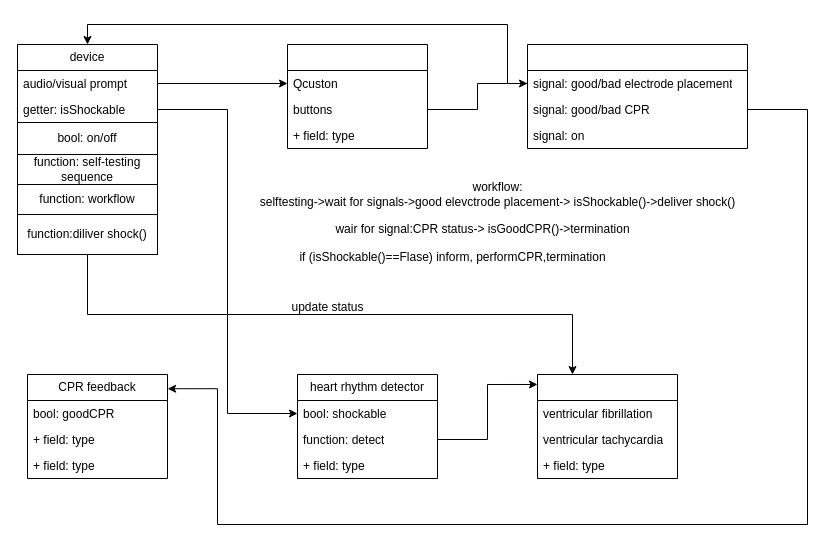
The diagram is 833 pixels wide and 550 high, and some of its shapes have lost their labels. The shapes that lost their labels are listed below. From the top down, each one's box as (x1, y1, x2, y2) in pixels, then its label:
(286, 44, 428, 148): GUI(mainWindow.ui)
(526, 44, 748, 148): user interaction(mainWindow.cpp)
(536, 374, 678, 478): patient
